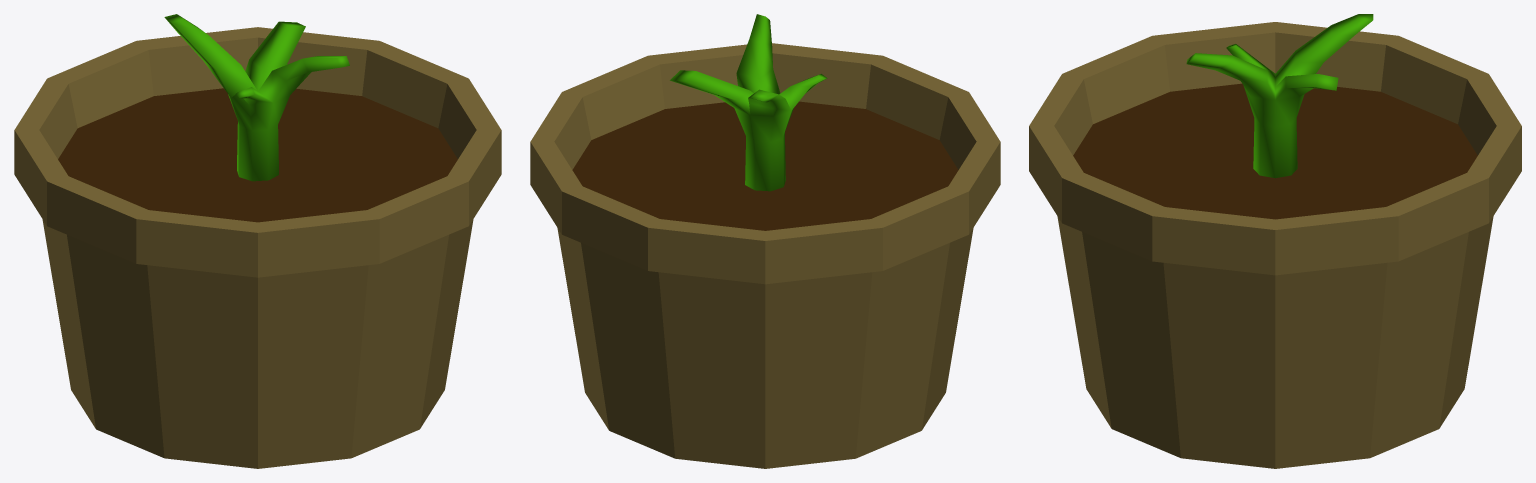
The model's file is Tree_1.glb.
3 renders of one model, left to right at view 1: azimuth 30°, elevation 25°; view 2: azimuth 150°, elevation 25°; view 3: azimuth 270°, elevation 25°, orthographic. The views are drawn at different scales.
Visible parts, largest first — view 1: 柱体, 立方体; view 2: 柱体, 立方体; view 3: 柱体, 立方体.
Boxes of the visible parts, left/top/right/bottom form: 柱体: left=14, top=27, right=501, bottom=468; 立方体: left=164, top=14, right=349, bottom=181; 柱体: left=530, top=43, right=1000, bottom=468; 立方体: left=670, top=14, right=827, bottom=191; 柱体: left=1029, top=22, right=1521, bottom=468; 立方体: left=1186, top=14, right=1373, bottom=178.
Bounding box in the file's own units: 2.61 × 2.07 × 2.61.
